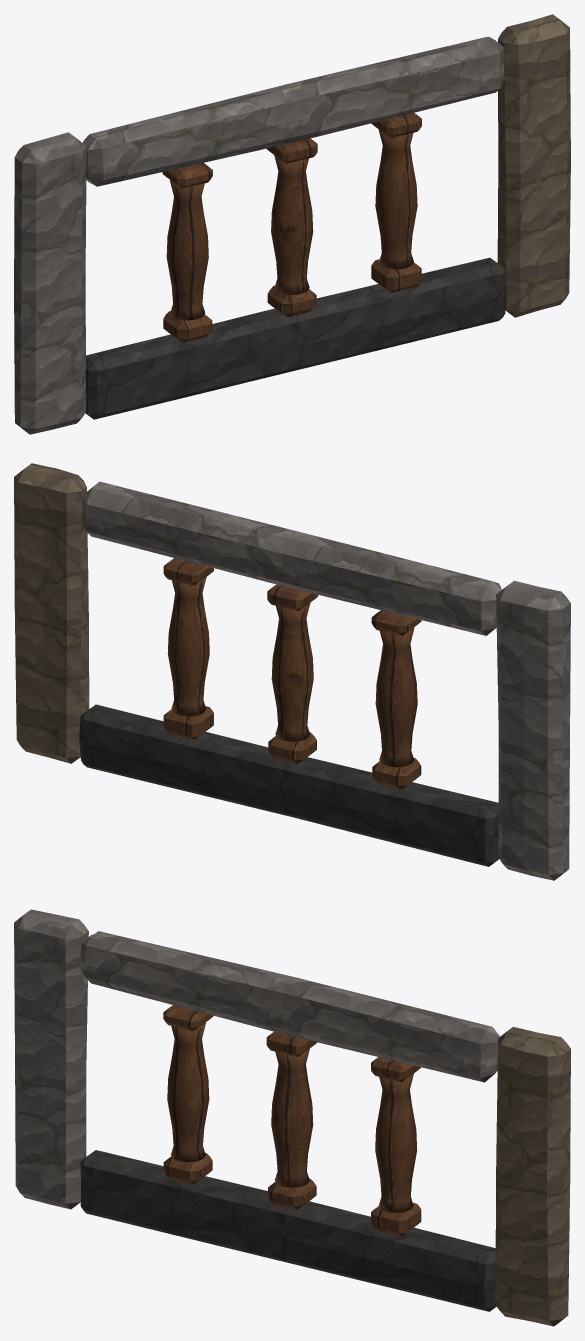
File: railing__cut_stone.glb
The picture shows the model from 3 angles, top to bottom: view 1: azimuth 30°, elevation 25°; view 2: azimuth 150°, elevation 25°; view 3: azimuth 330°, elevation 25°; orthographic projection.
Parts seen in each view (by area): view 1: model; view 2: model; view 3: model.
Part boxes in pixels (<box>): model: <box>14,14,570,434</box>; model: <box>14,463,570,880</box>; model: <box>14,909,570,1326</box>.
Size of the model in its own units: 1.98 by 0.984 by 0.132.
4 materials, 4 textured.
